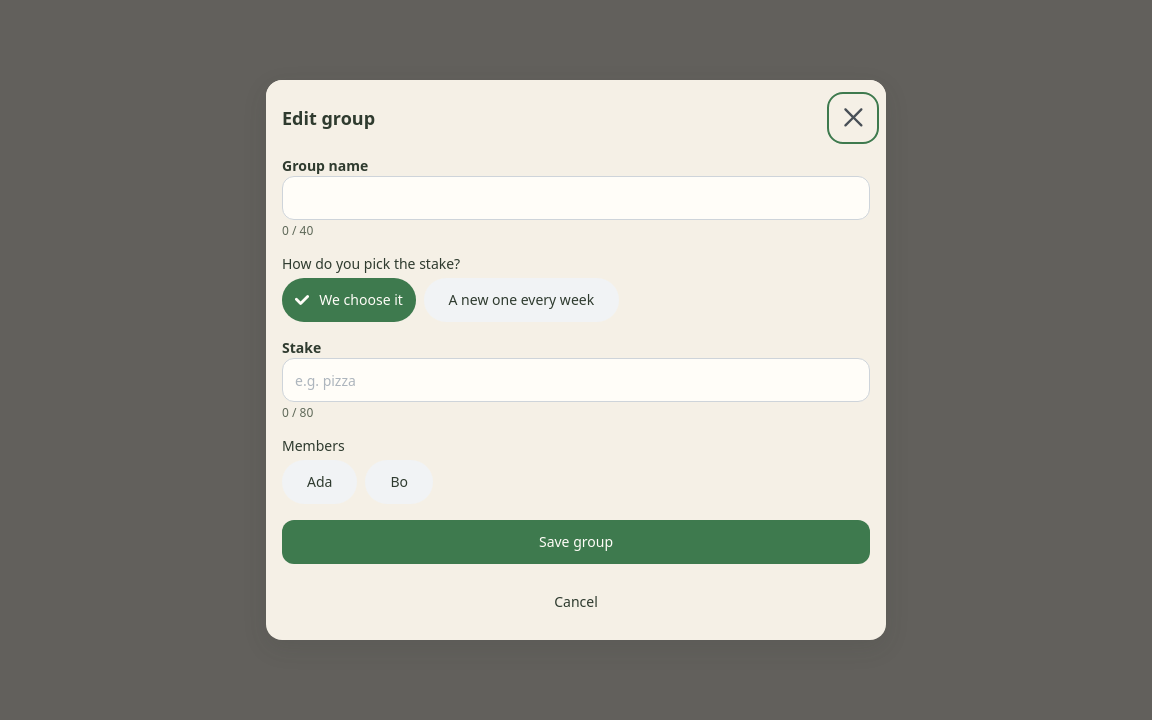
Test: F3-ST-02 RF-25 GroupDialog › shows the error core finds and saves nothing
Click the button "Save group" at (576, 542), box [282, 520, 870, 564]
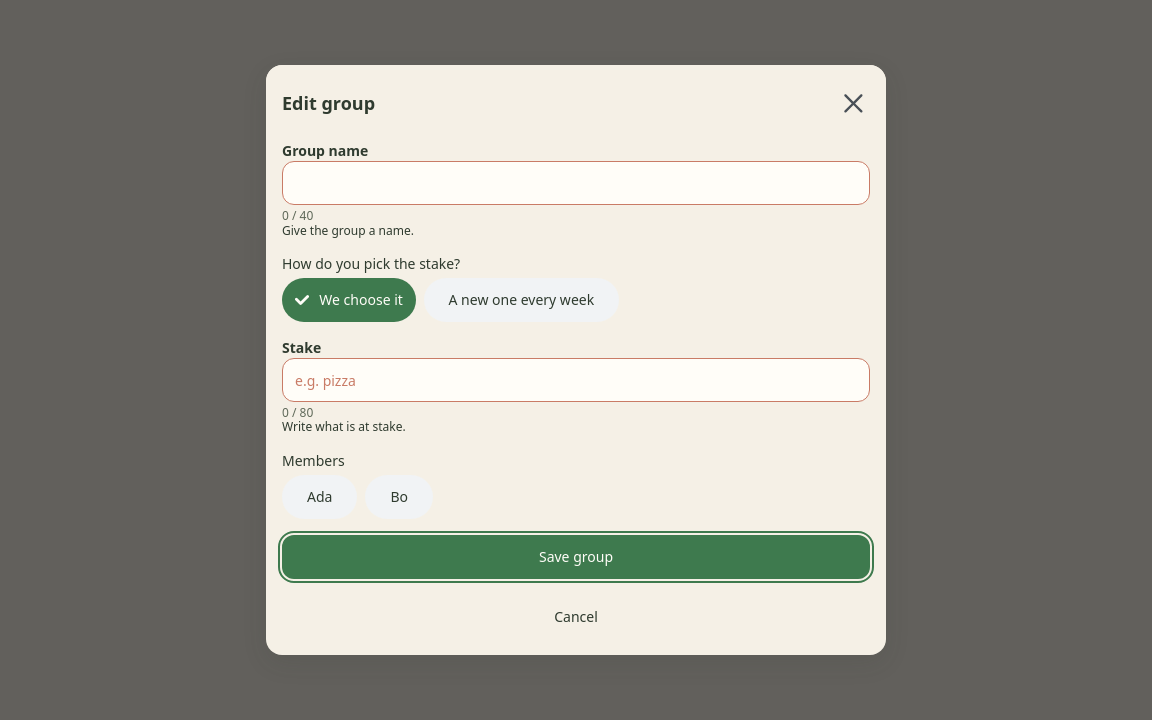
Expected: the text "Give the group a name." is shown, [282, 222, 414, 239]
